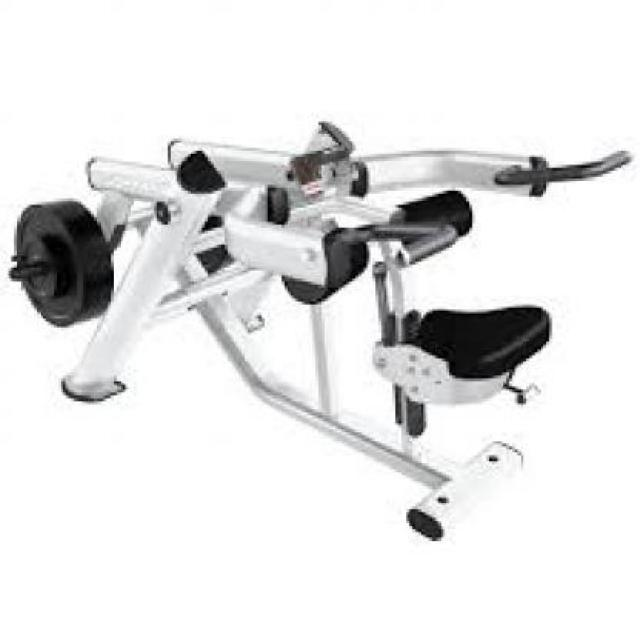seated dip machine: (1, 68, 632, 555)
